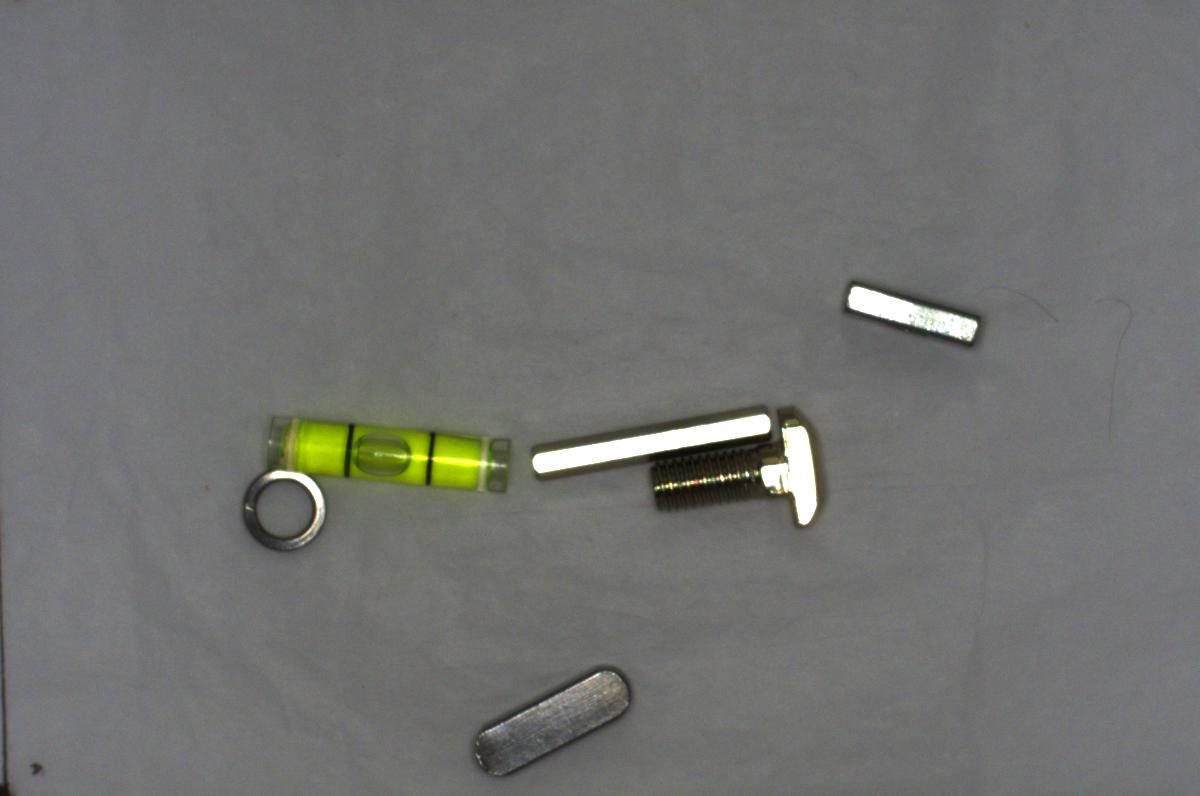Double hexagonal column: (526, 400, 774, 483)
Horizontal bubble: (260, 410, 517, 501)
Keybar: (466, 661, 645, 786)
Rectangular nut: (833, 274, 980, 347)
Spring washer: (233, 463, 338, 552)
T-shaped screw: (647, 408, 834, 534)
